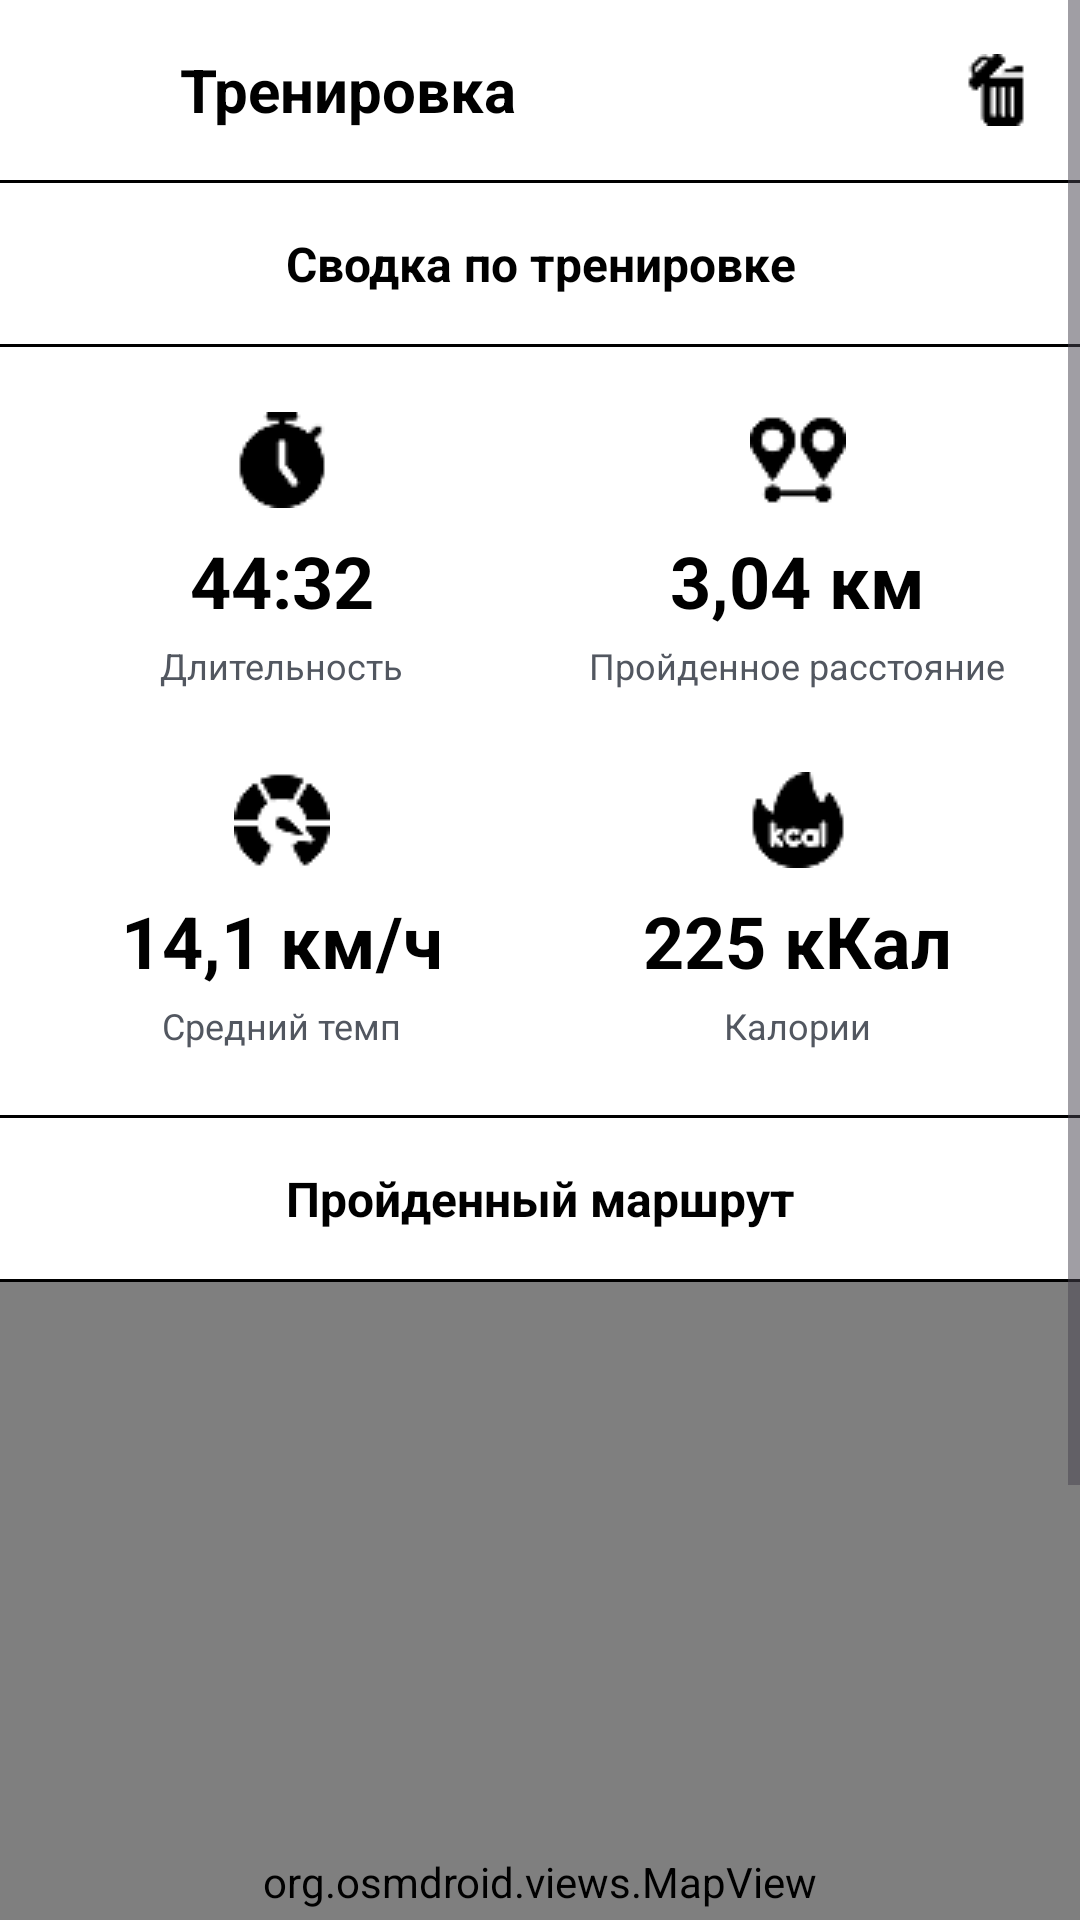

Named icons in this screenshot (1080px x 1920px) and their centers, point (x, y):
delete: point (996, 90)
distance: point (798, 460)
speed: point (282, 820)
time: point (282, 460)
